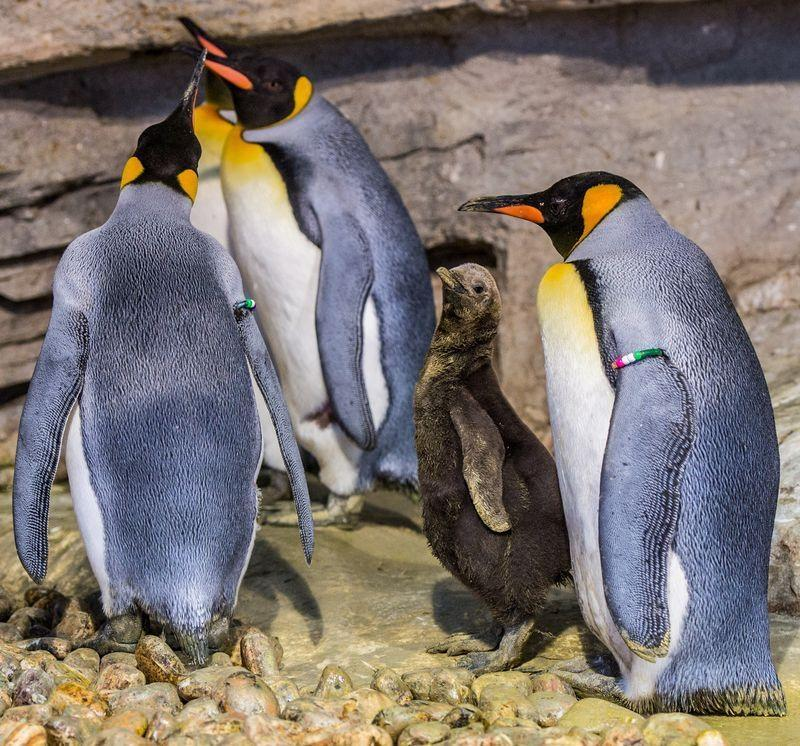Penguin: (12, 48, 314, 662), (456, 171, 785, 715), (205, 53, 436, 529), (414, 263, 574, 674), (191, 63, 237, 266), (175, 17, 264, 60), (252, 378, 286, 472)
